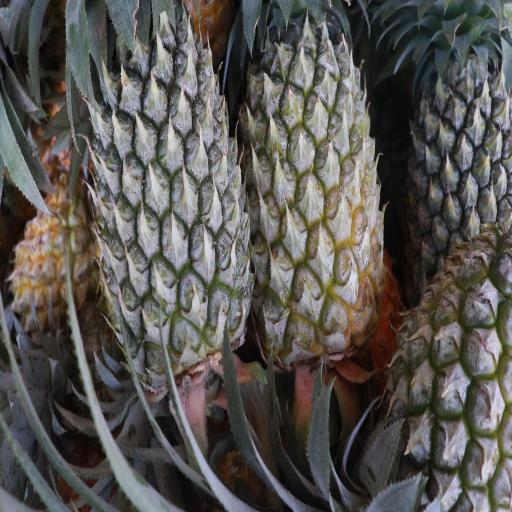------------------------------: (247, 23, 381, 357), (394, 238, 512, 512)
Pineapple - v8 v1: (12, 186, 90, 345)
